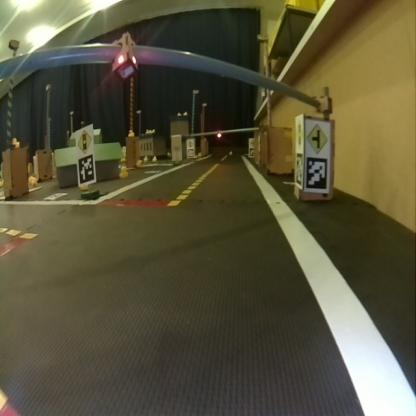Intersection sign: (306, 122, 327, 149)
QR code: (305, 156, 327, 187), (77, 155, 94, 182), (294, 151, 302, 187)
Signal sign: (76, 129, 92, 152), (295, 115, 302, 150)
Traffic light: (111, 29, 137, 80)
